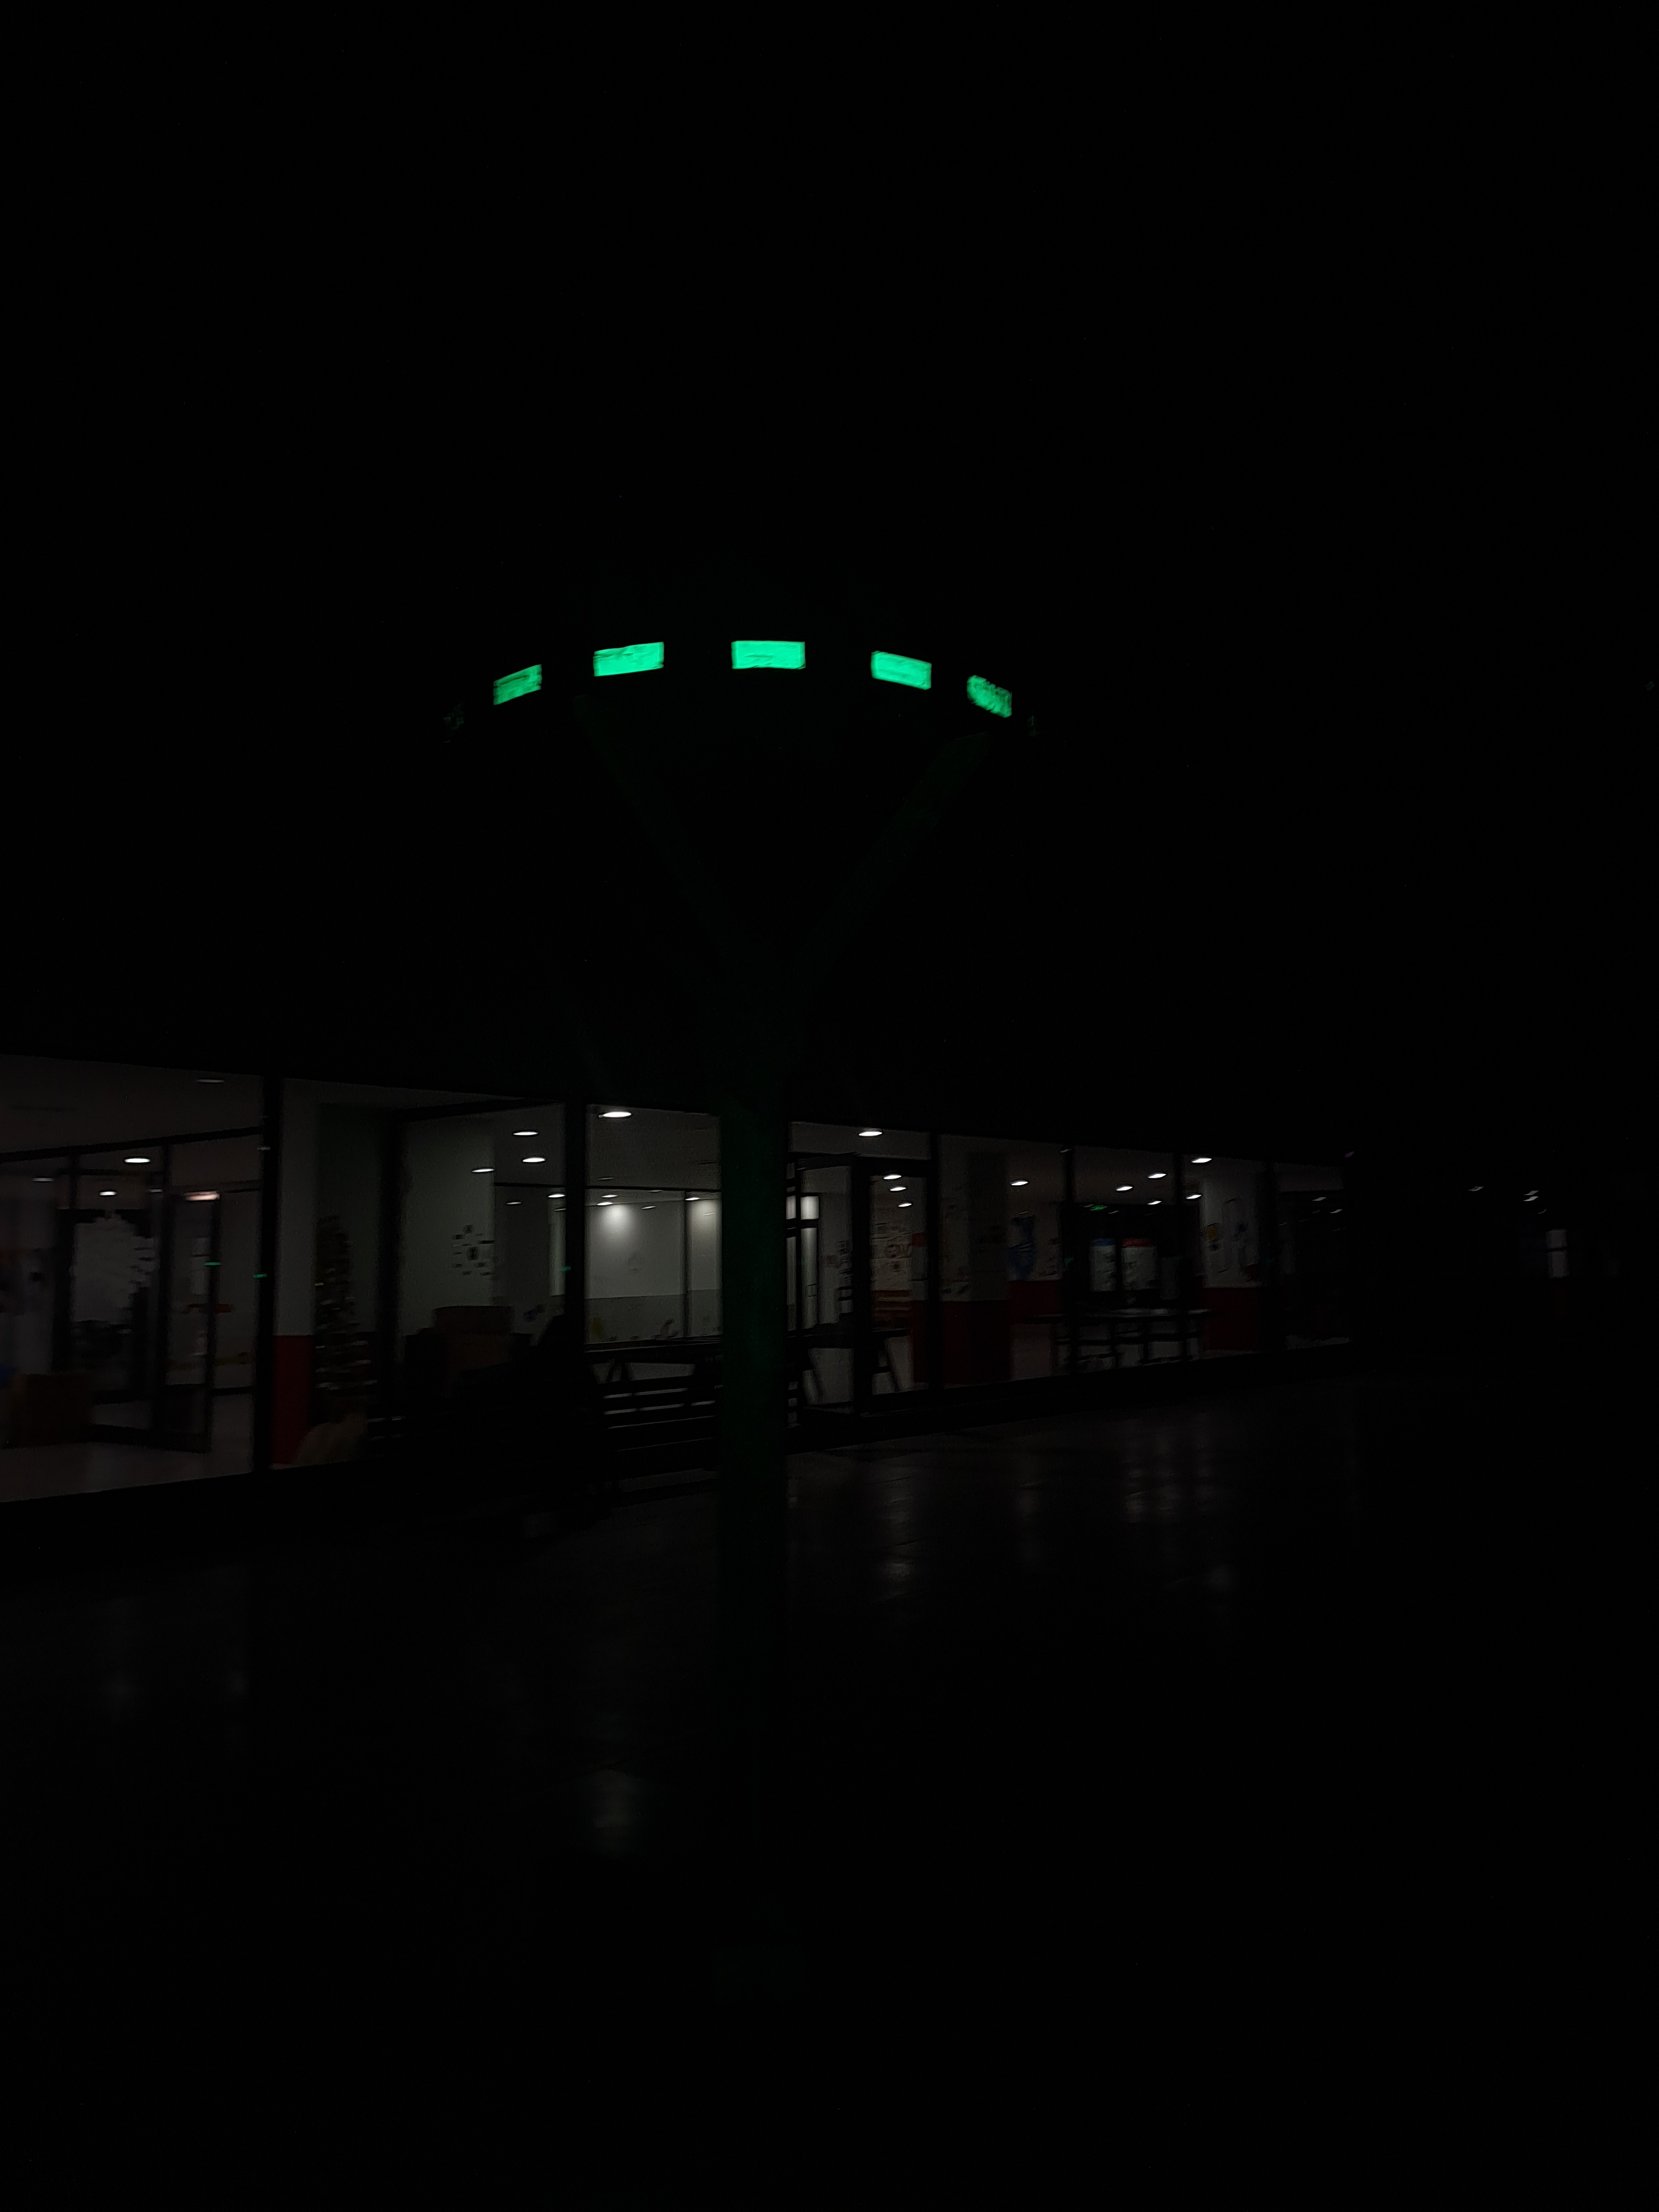hoop: (479, 634, 1018, 725)
